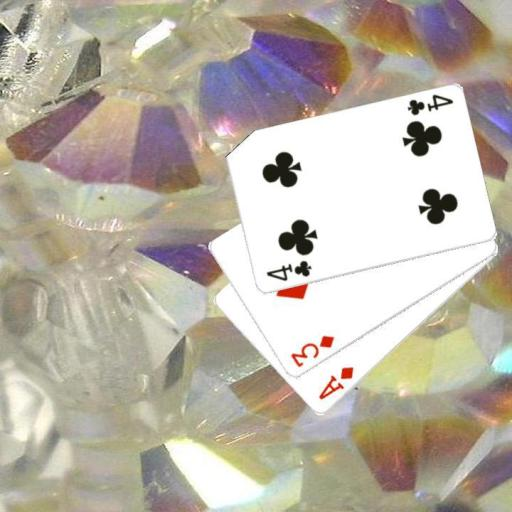3D: (287, 332, 336, 370)
4C: (403, 91, 455, 117), (262, 257, 313, 283)
AD: (315, 363, 356, 402)
